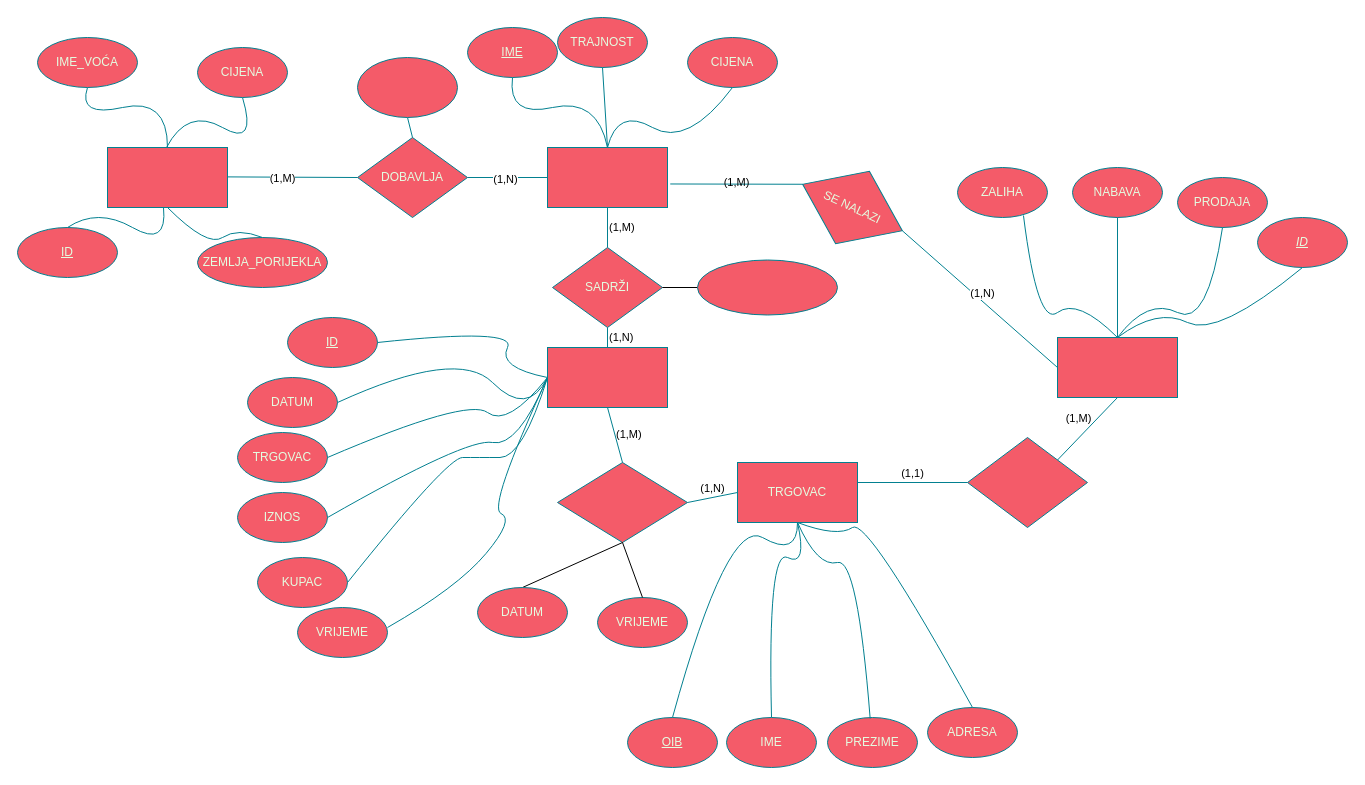
Some shapes in this 1365 by 785 pixel diagram are drawn without their labels. Here are the shapes that lost their labels. From the top down, the box of each, then its label:
(356, 56, 458, 118): KOLIČINA_ROBE
(106, 146, 228, 208): DOBAVLJAČ
(546, 146, 668, 208): VOĆE
(696, 259, 838, 315): KOLIČINA_VOĆA
(546, 346, 668, 408): RAČUN
(1056, 336, 1178, 398): SKLADIŠTE
(556, 462, 688, 542): IZDAJE
(966, 436, 1088, 528): VODI EVIDENCIJU
